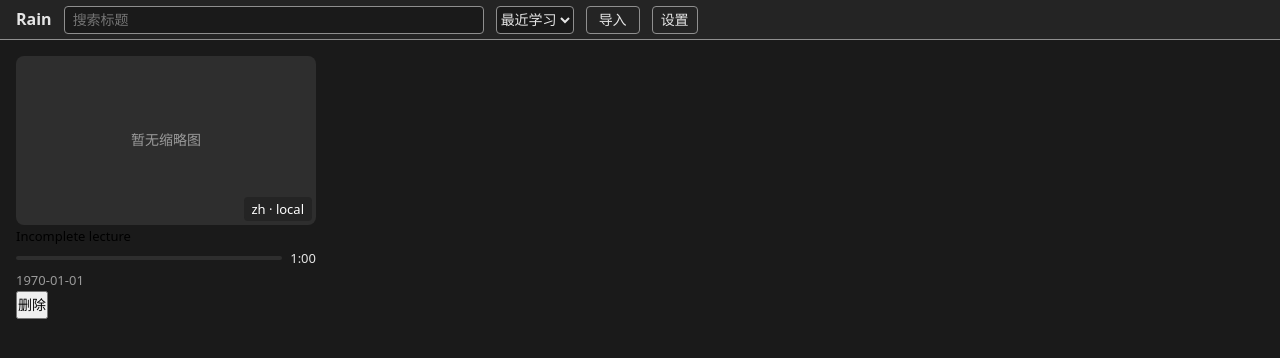
it: AC-ST-01 atomic study loading › keeps the user on the list and reports an incomplete ready video
Click the text "Incomplete lecture": [73, 236] box [16,227,131,245]
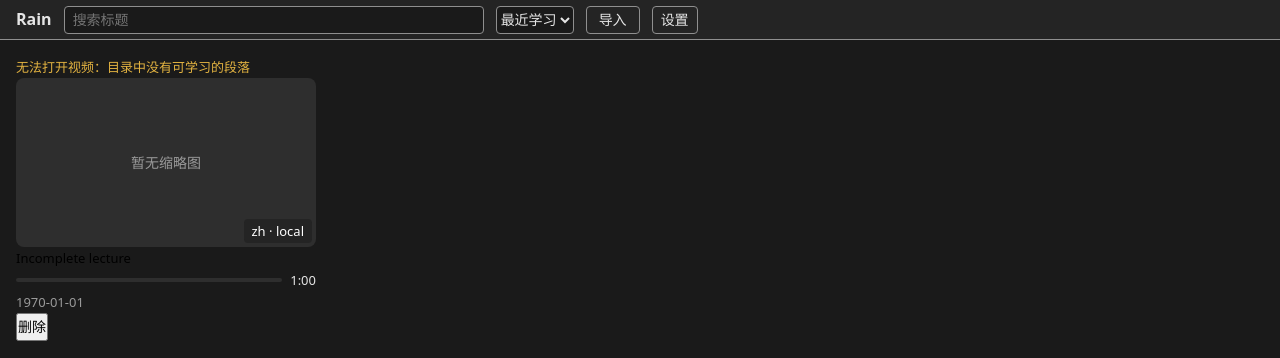
expect the message shows "无法打开视频": met, box [16,58,250,76]
